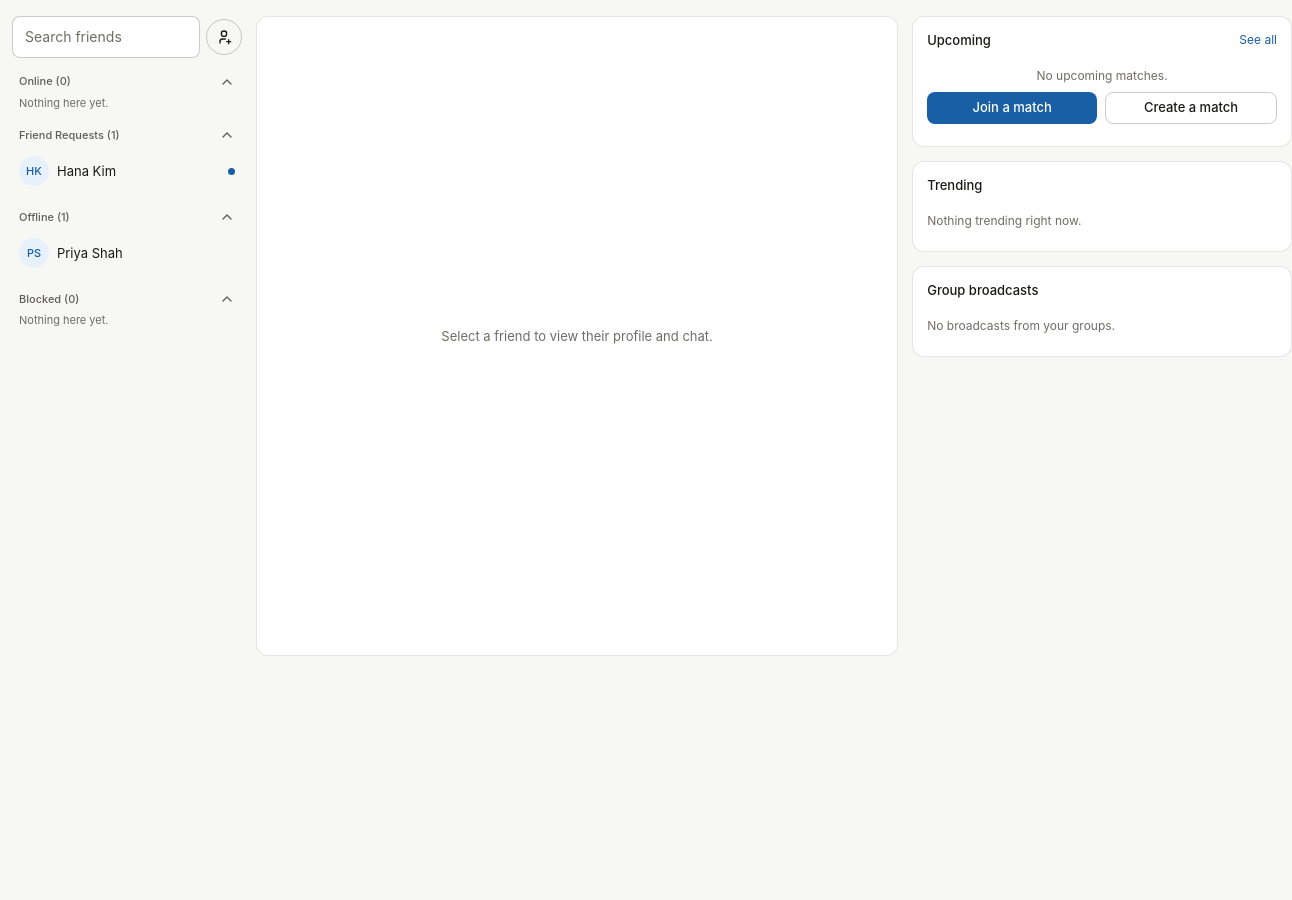
it: FriendsPage › selecting a friend shows the profile + chat split, with the Friend menu button (already friends)
This screenshot has width=1292, height=900.
What coordinates should you click on to do the following:
click the text "Priya Shah"
I would click on:
 (90, 253)
Its box is x1=57 y1=245 x2=123 y2=261.
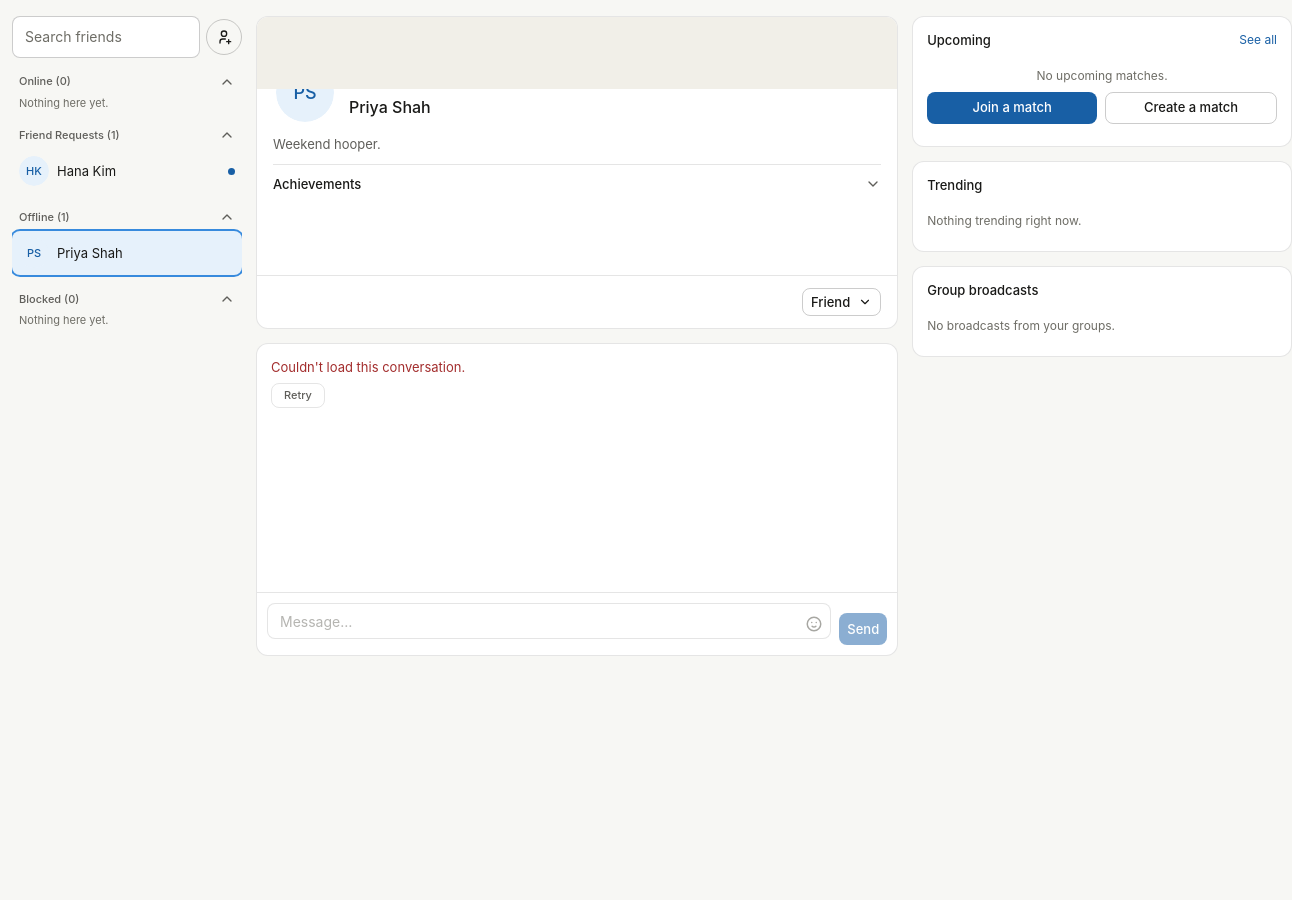
Check: the button "Friend" is shown, box x1=802 y1=288 x2=881 y2=316
Check: the text "Weekend hooper." is shown, box x1=273 y1=136 x2=381 y2=152
Check: the text box labelled "Message" is shown, box x1=267 y1=603 x2=831 y2=639
